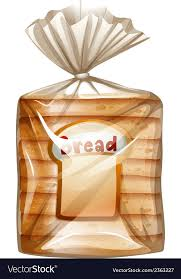bread: (8, 10, 161, 255)
